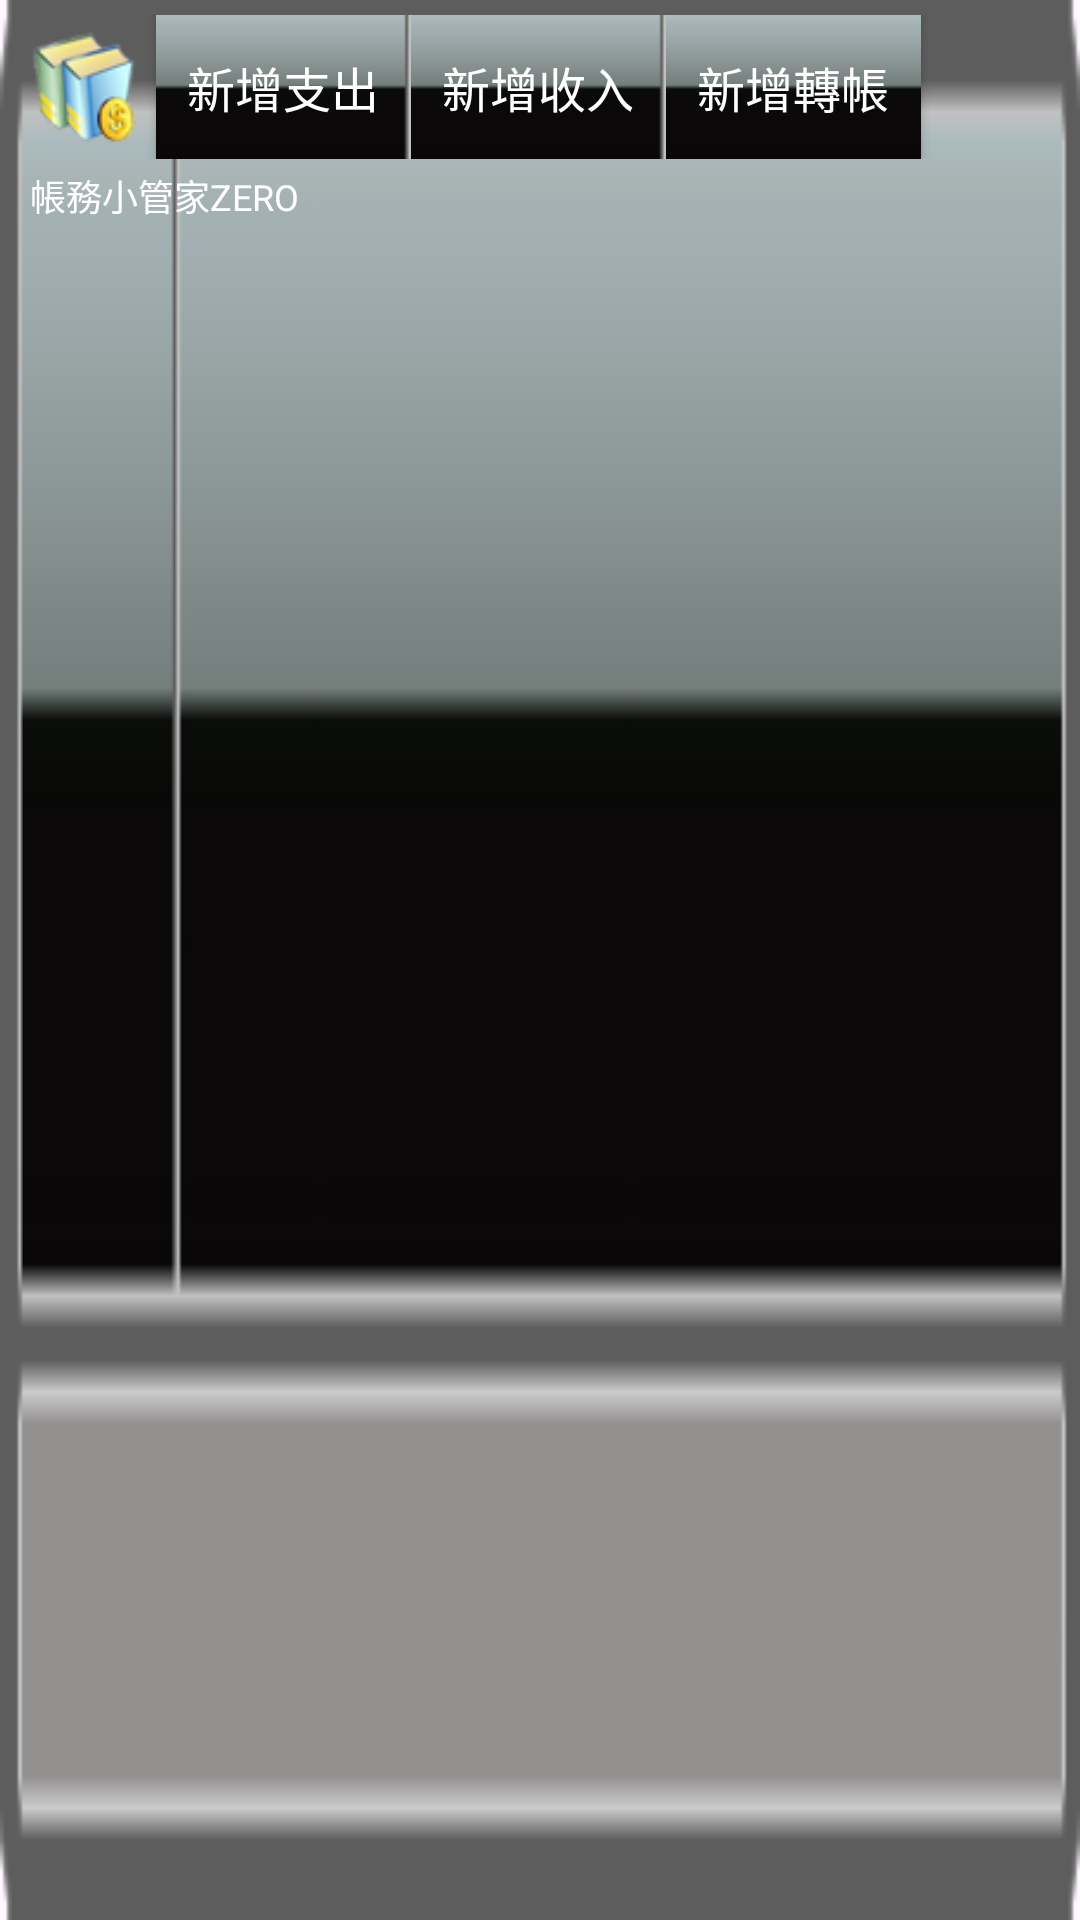

Where to tap for icons on this 1080 × 1920 app screen, as (x=x, y=y):
mymoneyzerob: (x=84, y=87)
